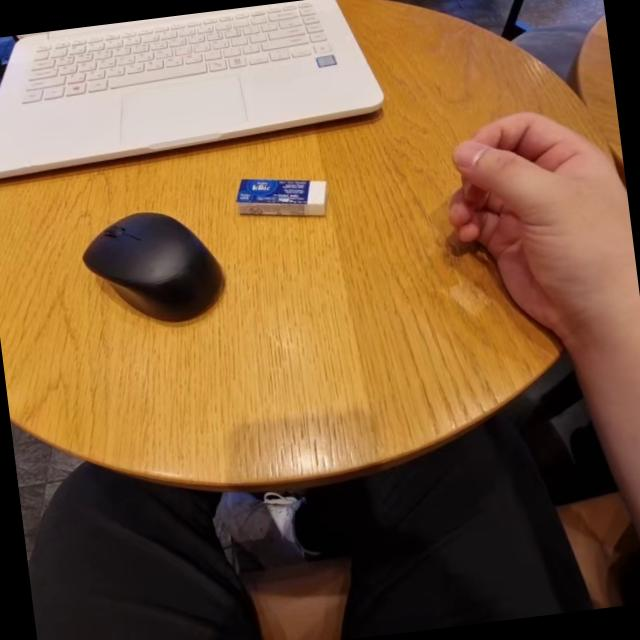eraser: (218, 158, 354, 234)
hand: (428, 93, 640, 345)
mouse: (57, 199, 242, 334)
